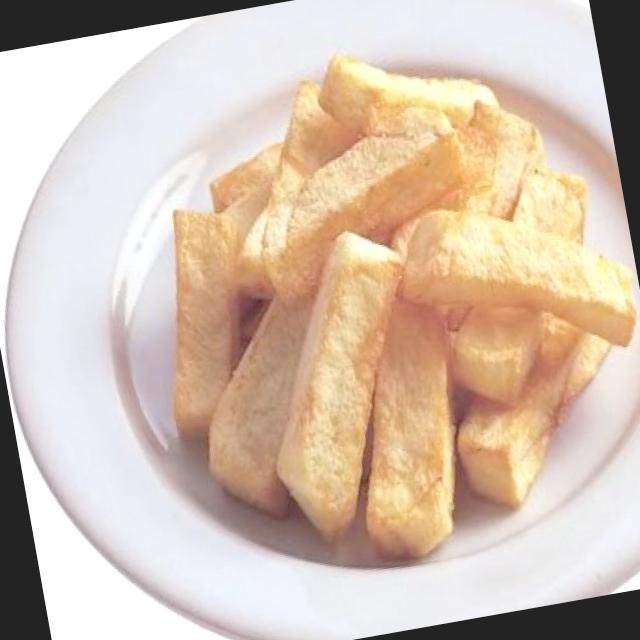French Fries: (97, 39, 639, 572)
